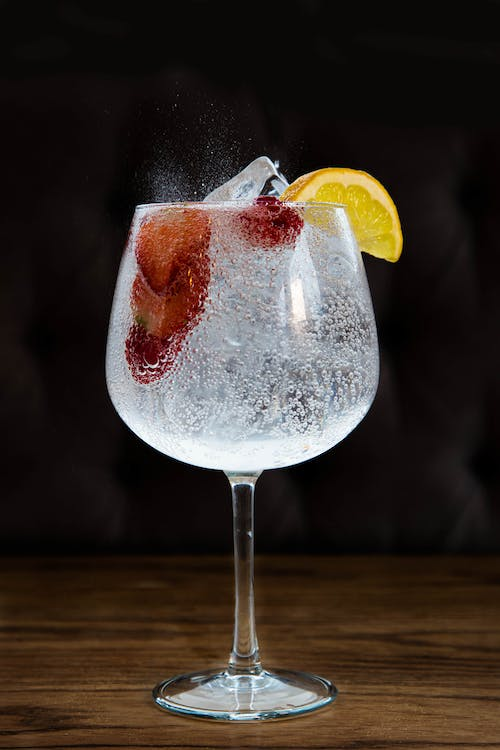alcohol: (104, 201, 381, 726)
